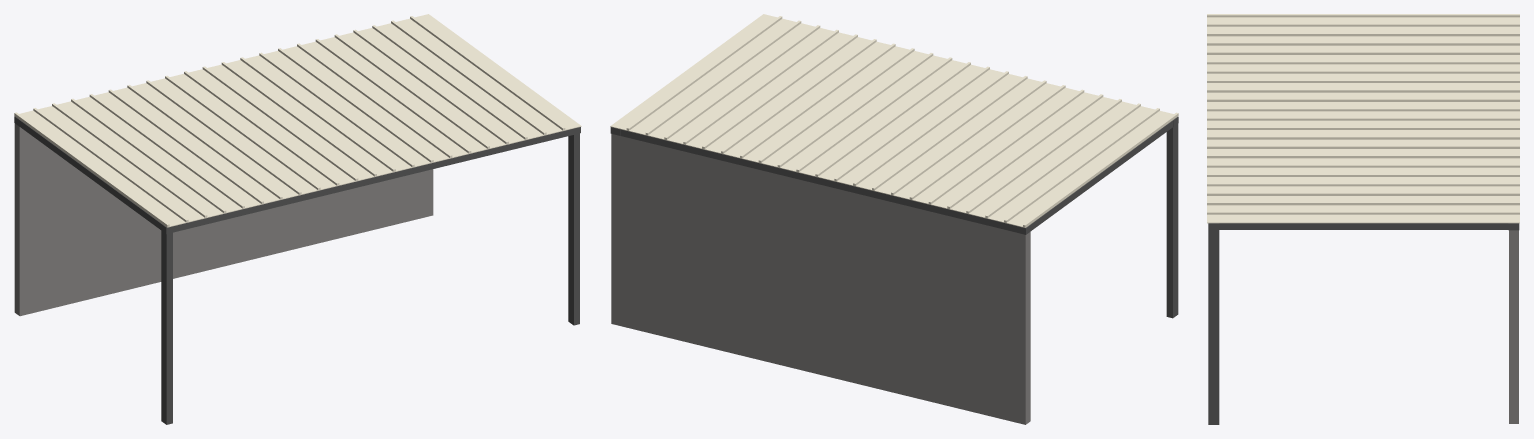
Rendered from veranda_new.gltf.
The picture shows the model from 3 angles, left to right: view 1: azimuth 30°, elevation 25°; view 2: azimuth 150°, elevation 25°; view 3: azimuth 270°, elevation 25°; orthographic projection. The views are drawn at different scales.
Visible parts, largest first — view 1: Plane, Cube.007, Cube.001, Cube.005, Cube.006, Cube.003; view 2: Cube.007, Plane, Cube.002, Cube.005, Cube.003; view 3: Plane, Cube.006, Cube.004, Cube.007.
Part boxes in pixels (<box>): Plane: <box>14,14,581,227</box>; Cube.007: <box>14,116,433,316</box>; Cube.001: <box>161,127,580,233</box>; Cube.005: <box>161,231,172,424</box>; Cube.006: <box>568,133,579,325</box>; Cube.003: <box>18,119,175,233</box>; Cube.007: <box>611,134,1030,424</box>; Plane: <box>610,14,1178,227</box>; Cube.002: <box>610,127,1031,234</box>; Cube.005: <box>1166,124,1178,318</box>; Cube.003: <box>1016,120,1172,234</box>; Plane: <box>1207,14,1519,223</box>; Cube.006: <box>1208,230,1219,424</box>; Cube.004: <box>1219,223,1508,229</box>; Cube.007: <box>1509,230,1518,423</box>.
Bounding box in the file's own units: 0.8407 × 0.3882 × 0.5373.
